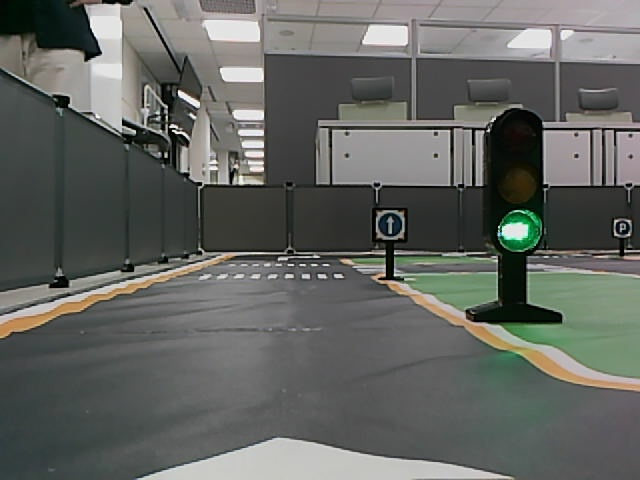crosswalk: (197, 270, 346, 282), (227, 261, 333, 269)
go: (377, 213, 404, 237)
green: (497, 208, 544, 255)
park: (614, 221, 632, 237)
